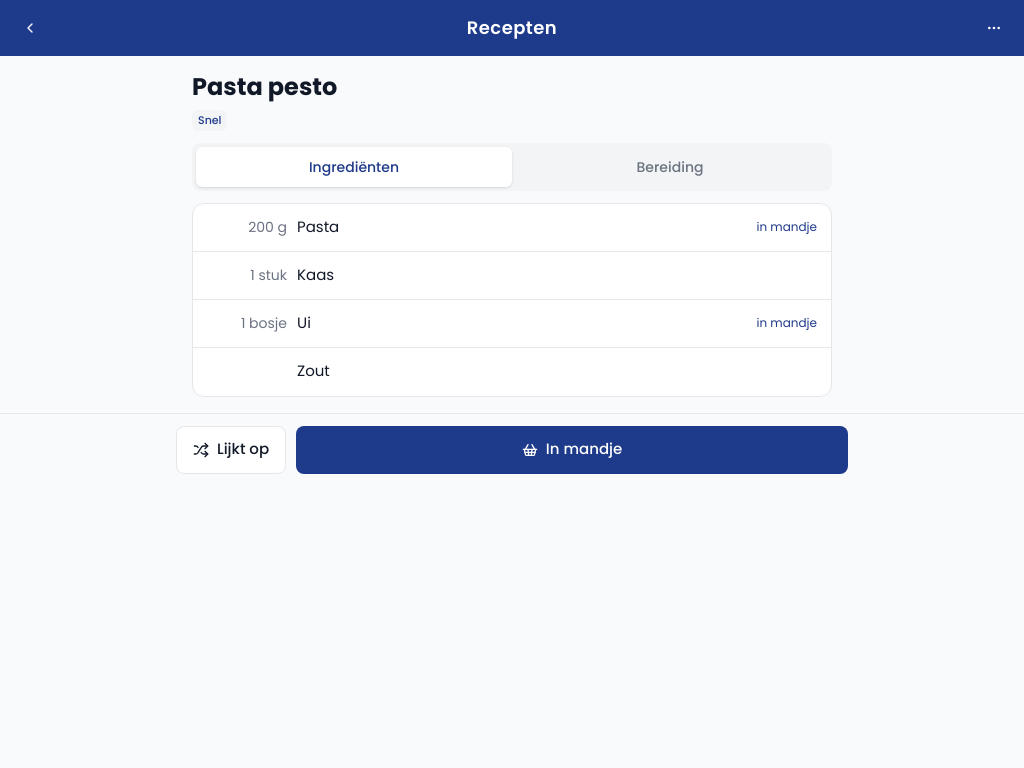
Scenario: RecipeDetailClient › In mandje › says per ingredient what the list will do with it
Click the button "In mandje".
click(572, 450)  # box [296,426,848,474]
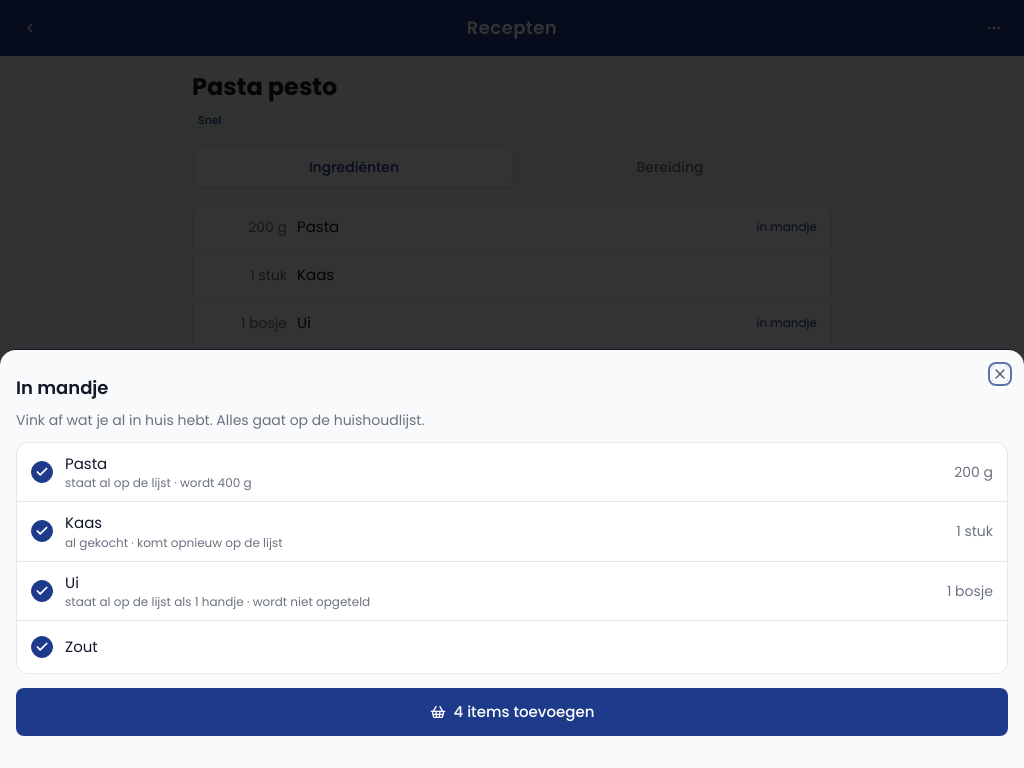
expect the text "staat al op de lijst · wordt 400 g" is shown: met, box [65,474,252,491]
expect the text "al gekocht · komt opnieuw op de lijst" is shown: met, box [65,534,283,550]
expect the text "staat al op de lijst als 1 handje · wordt niet opgeteld" is shown: met, box [65,593,370,610]
